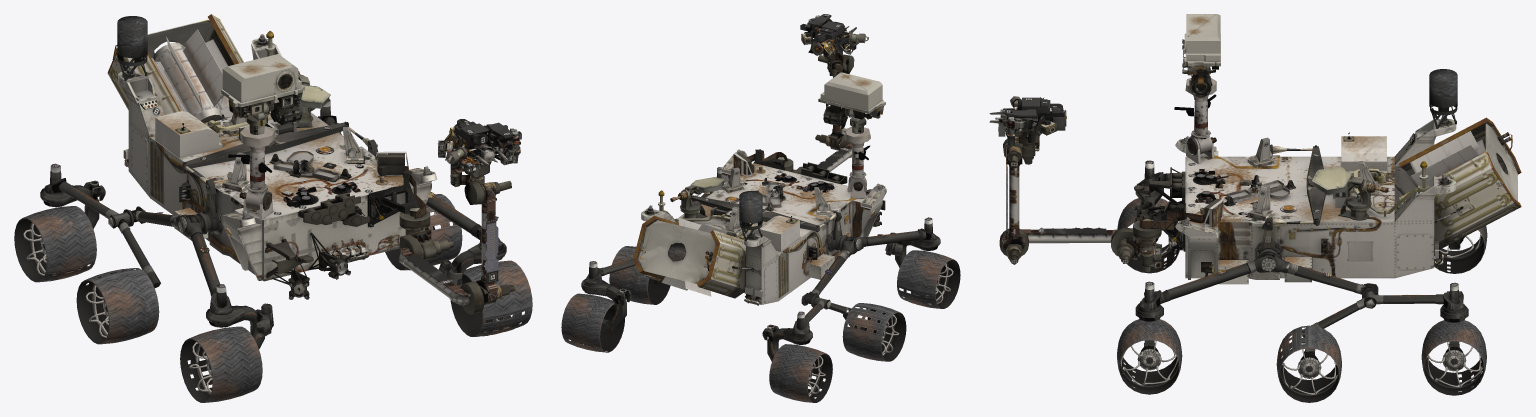
Rendered from curiosity.glb.
3 renders of one model, left to right at view 1: azimuth 30°, elevation 25°; view 2: azimuth 150°, elevation 25°; view 3: azimuth 270°, elevation 25°, orthographic. The views are drawn at different scales.
Visible parts, largest first — view 1: MSL; view 2: MSL; view 3: MSL.
Part boxes in pixels (x1=…): MSL: x1=14, y1=14, x2=532, y2=402; MSL: x1=561, y1=14, x2=960, y2=402; MSL: x1=989, y1=14, x2=1521, y2=402.
Size of the model in its own units: 2.78 by 2.22 by 3.94.
Materials: 9 (8 with a texture image).
